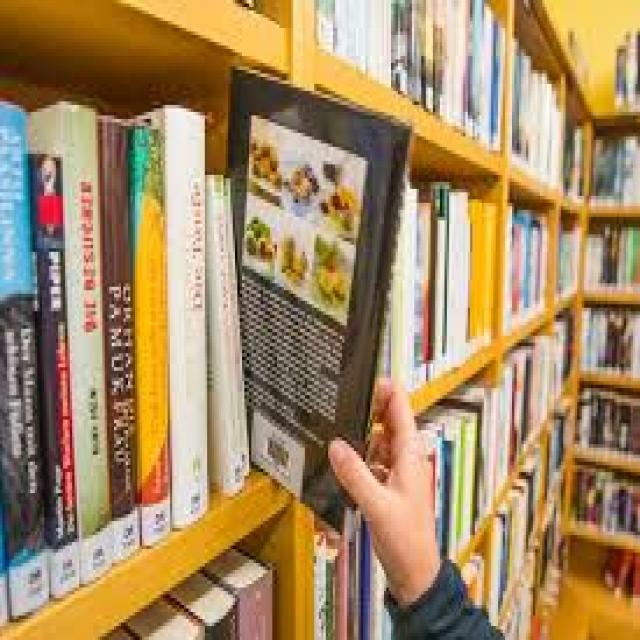book: (222, 60, 407, 551), (51, 103, 121, 576), (161, 100, 224, 515), (0, 94, 49, 612)
